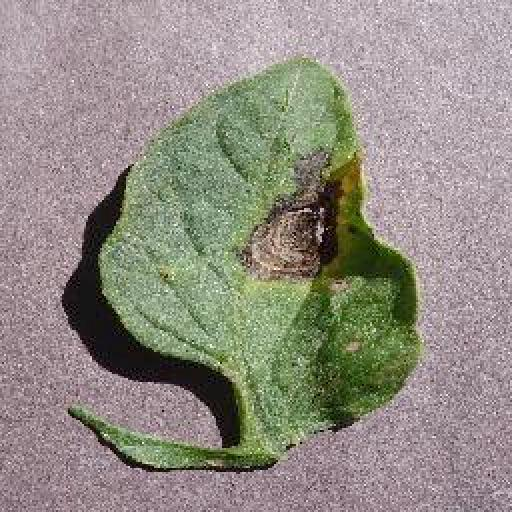disease_tomato: (98, 53, 427, 451)
